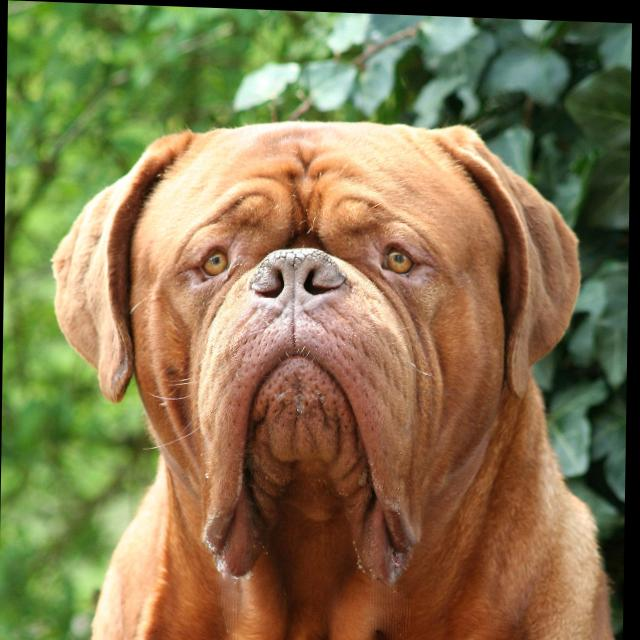dogue_de_bordeaux: (48, 107, 631, 640)
